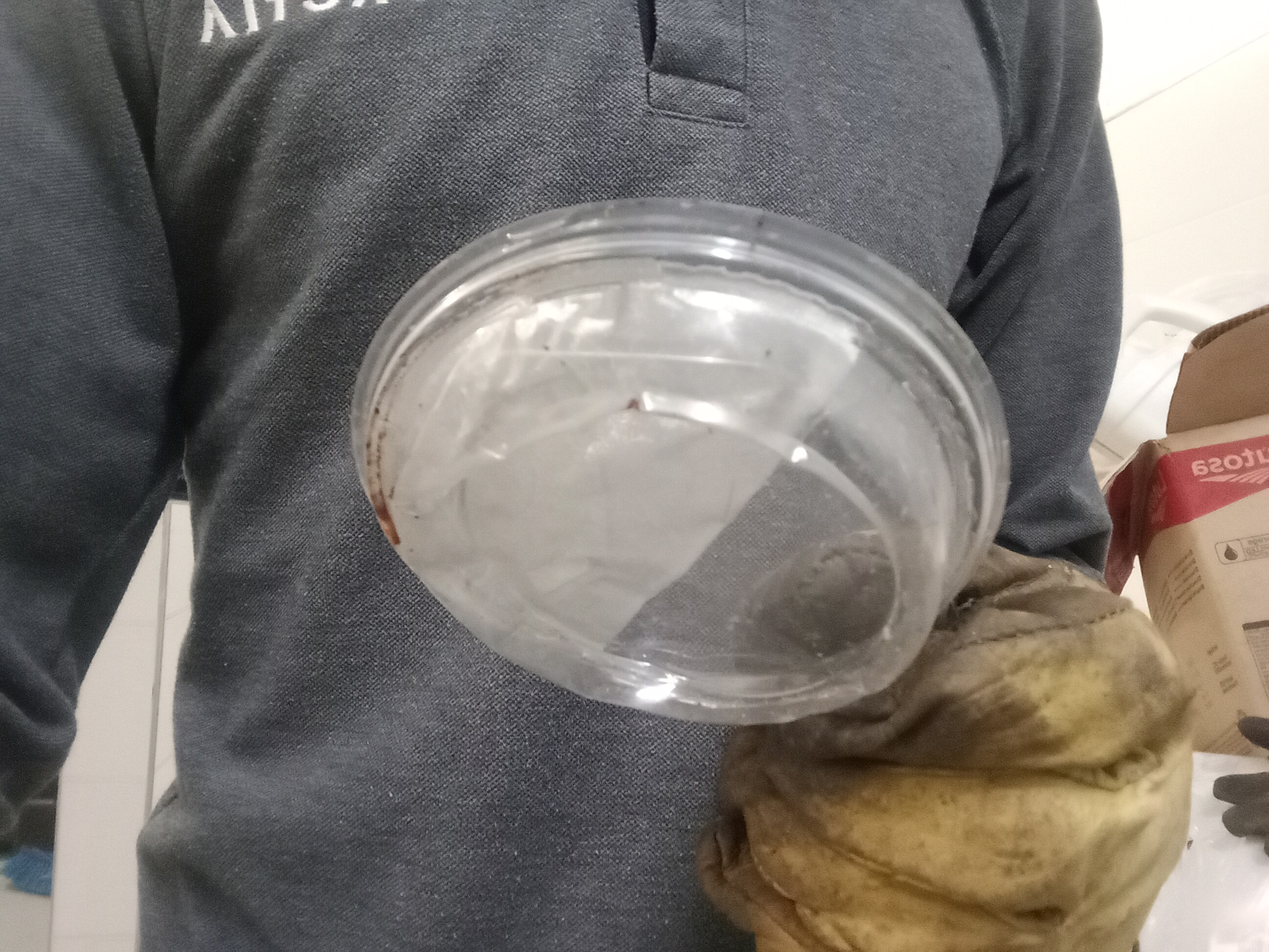Plastico: (352, 195, 1008, 725)
